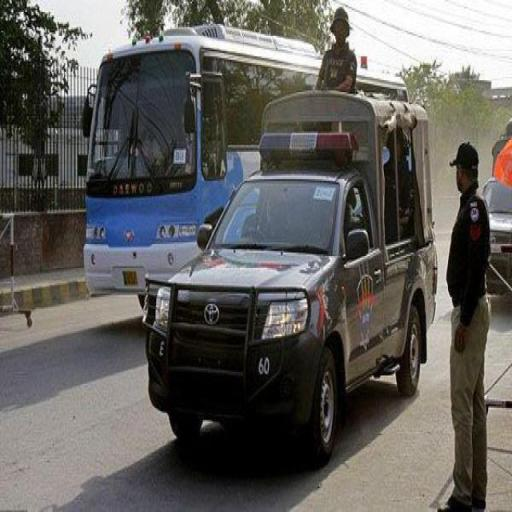Ambulance: (148, 122, 431, 452)
